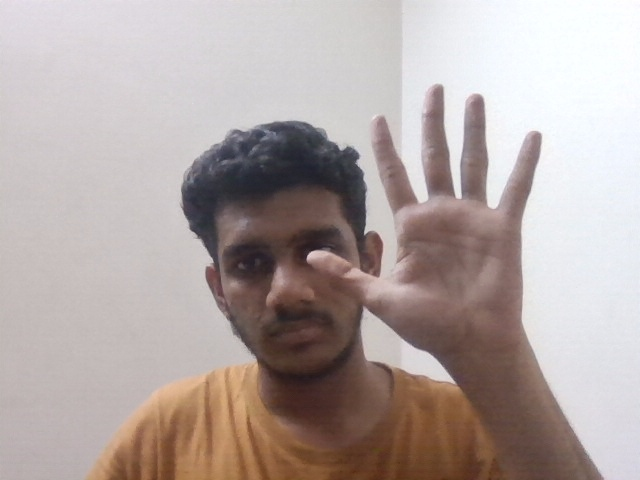hello: (342, 82, 559, 362)
